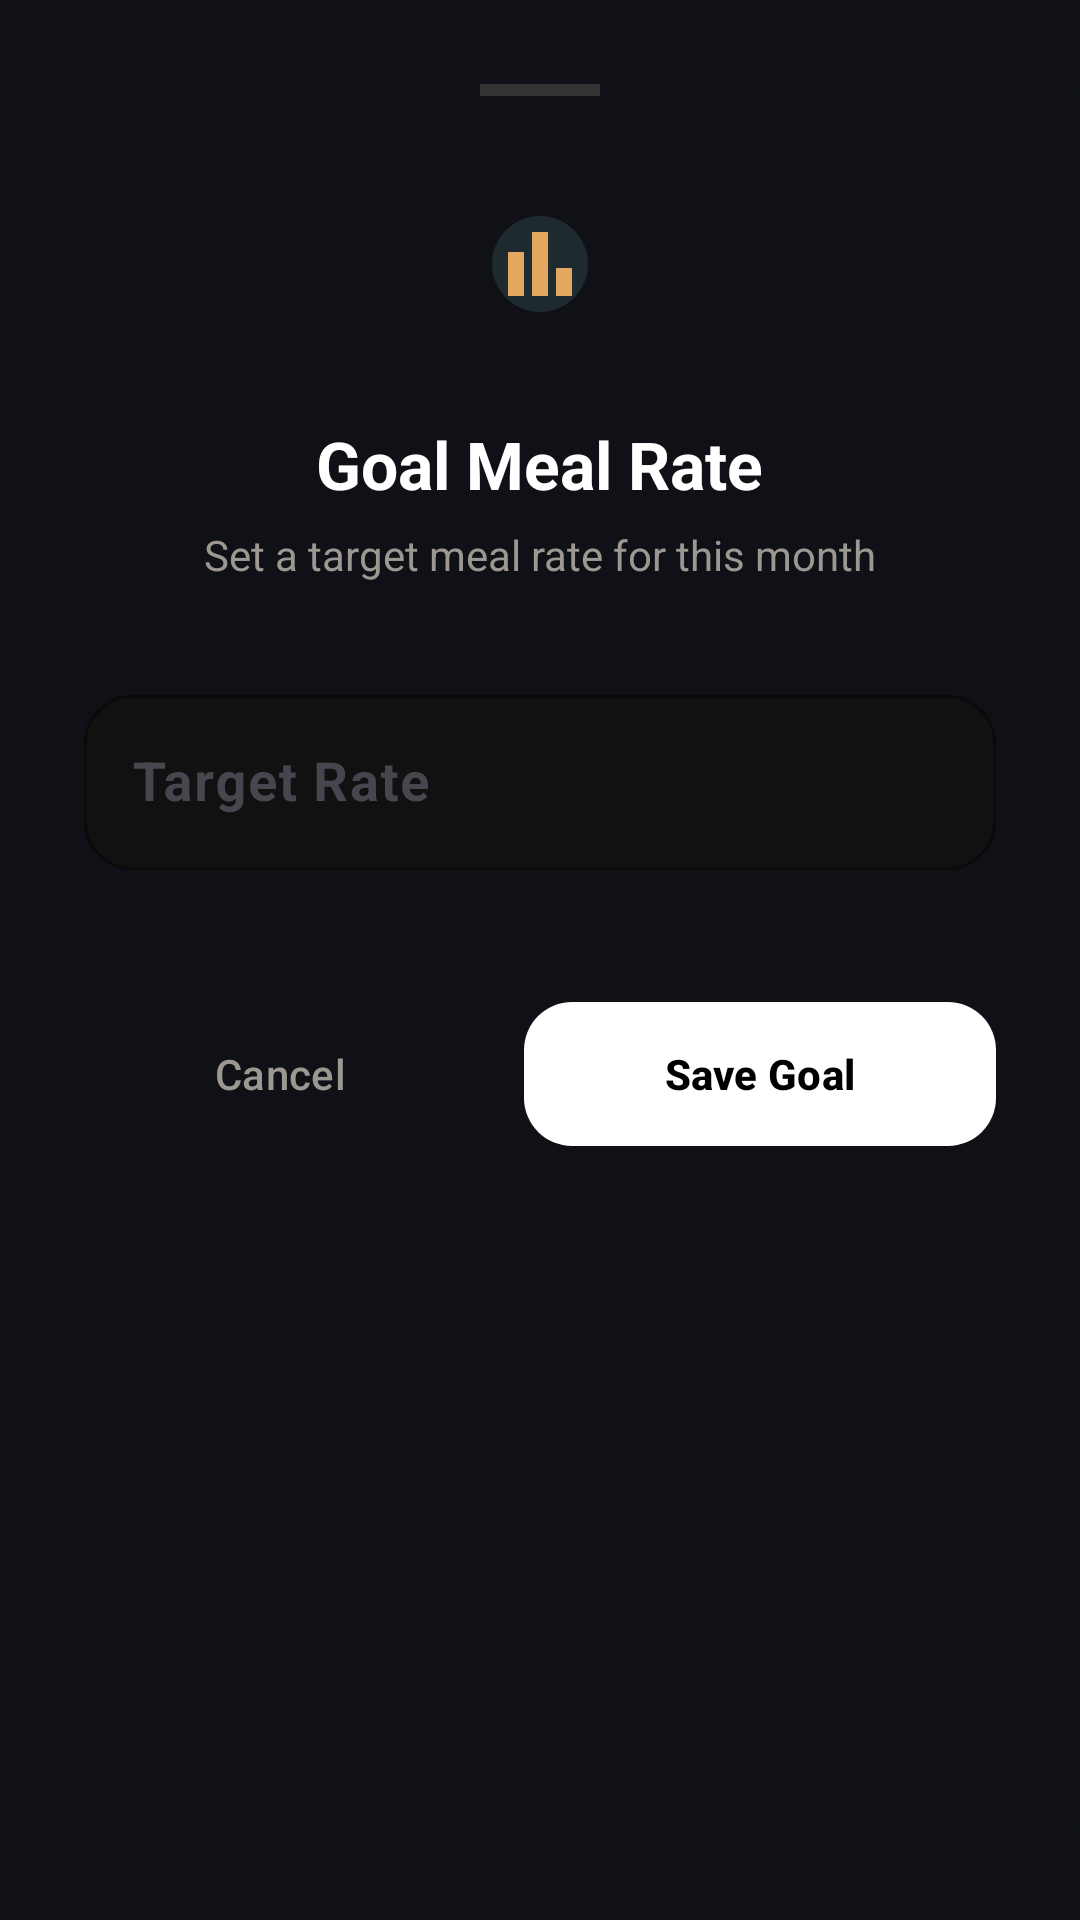

Point at icon controls on the screen. Image size 1080×1920, points as (x,y).
bar chart: (539,264)
